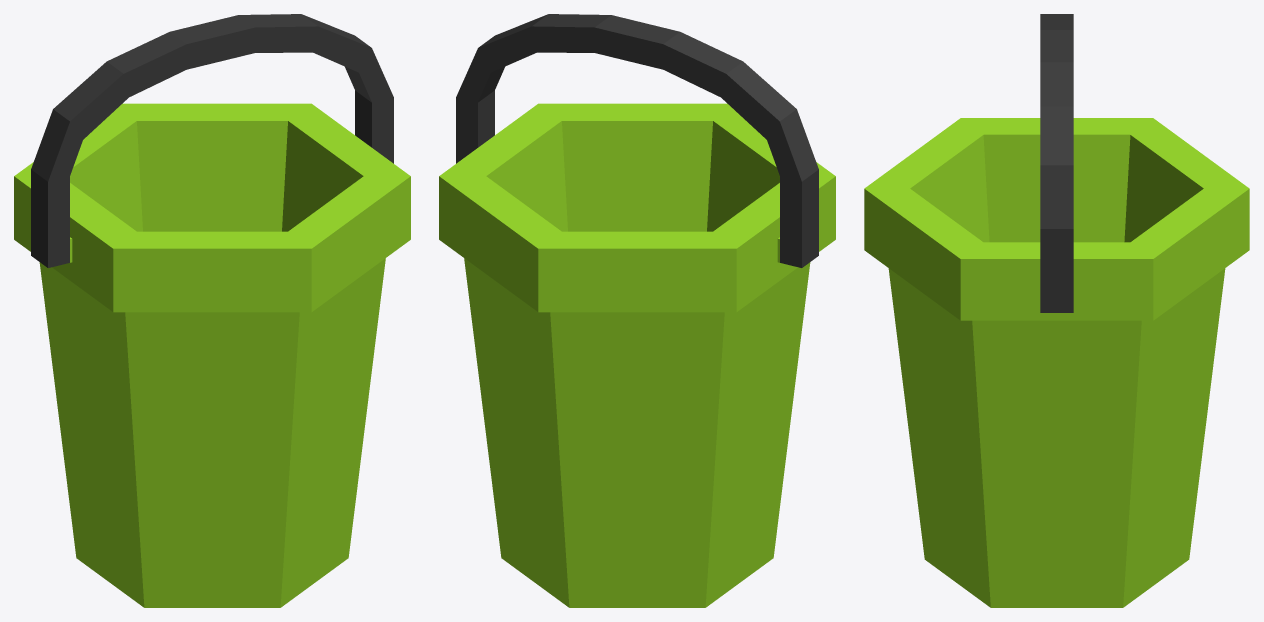
Rendered from Ember.fbx.
The picture shows the model from 3 angles, left to right: view 1: azimuth 30°, elevation 25°; view 2: azimuth 150°, elevation 25°; view 3: azimuth 270°, elevation 25°; orthographic projection. The views are drawn at different scales.
Parts seen in each view (by area): view 1: Cylinder.002; view 2: Cylinder.002; view 3: Cylinder.002.
Part boxes in pixels (x1=…): Cylinder.002: x1=14, y1=14, x2=410, y2=607; Cylinder.002: x1=439, y1=14, x2=835, y2=607; Cylinder.002: x1=864, y1=14, x2=1249, y2=607.
Bounding box in the file's own units: 227 × 332 × 226.
